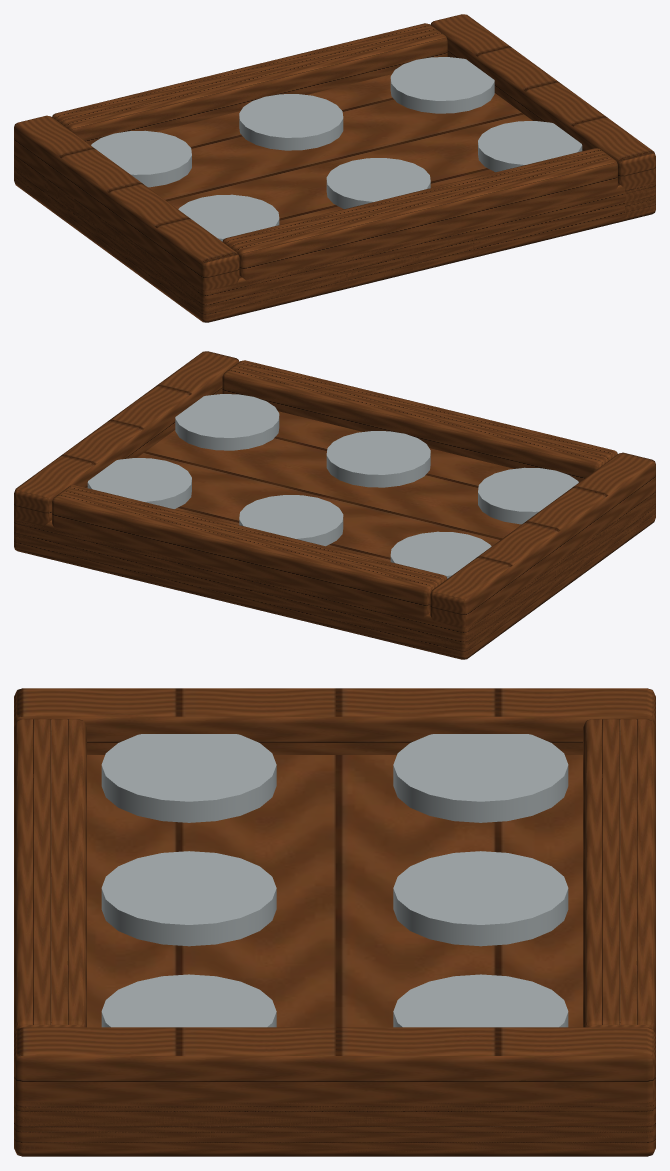
The picture shows the model from 3 angles, top to bottom: view 1: azimuth 30°, elevation 25°; view 2: azimuth 150°, elevation 25°; view 3: azimuth 270°, elevation 25°; orthographic projection. The views are drawn at different scales.
Parts seen in each view (by area): view 1: coin-tray; view 2: coin-tray; view 3: coin-tray.
Boxes of the visible parts, x1,y1,x2,y2 form: coin-tray: (14,14,655,322); coin-tray: (14,351,655,659); coin-tray: (14,688,655,1156).
Size of the model in its own units: 0.3 by 0.04 by 0.22.
Materials: 2 (1 with a texture image).
